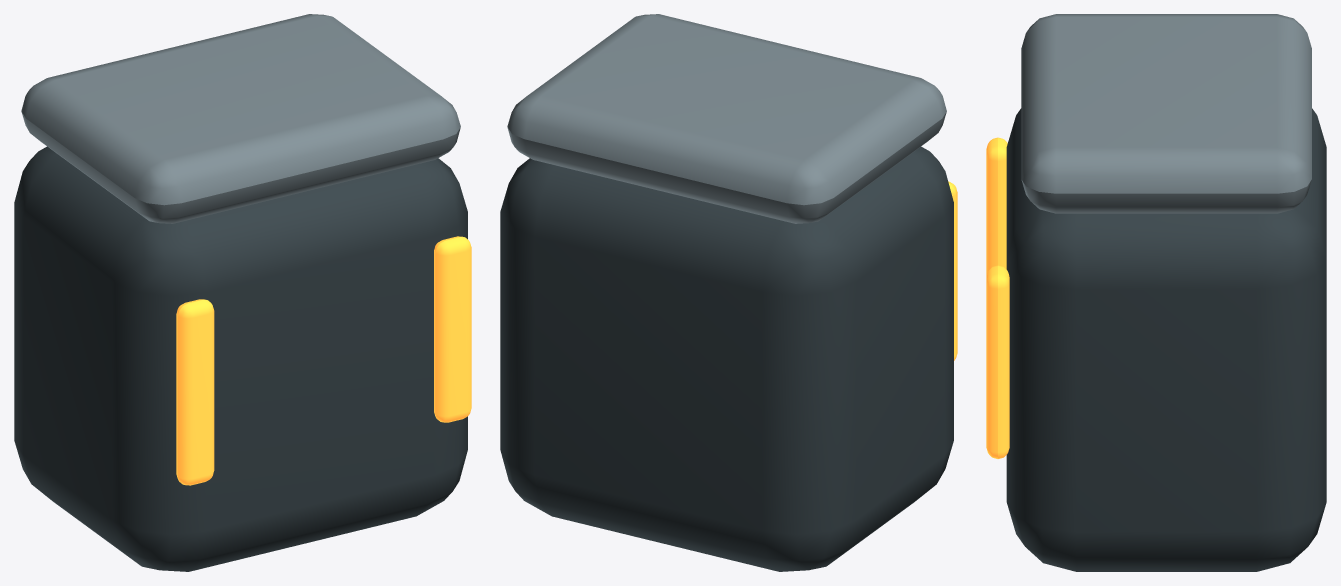
File: salvage-cache.glb
3 views of the same model, side by side, from view 1: azimuth 30°, elevation 25°; view 2: azimuth 150°, elevation 25°; view 3: azimuth 270°, elevation 25° (orthographic).
Parts seen in each view (by area): view 1: Salvage case, Salvage top, Status lock, Status lock.001; view 2: Salvage case, Salvage top, Status lock; view 3: Salvage case, Salvage top, Status lock.001, Status lock.
Boxes of the visible parts, bbox=[...] form: Salvage case: bbox=[14, 146, 467, 571]; Salvage top: bbox=[21, 14, 460, 223]; Status lock: bbox=[176, 299, 214, 485]; Status lock.001: bbox=[434, 236, 471, 422]; Salvage case: bbox=[500, 146, 953, 571]; Salvage top: bbox=[507, 14, 946, 223]; Status lock: bbox=[948, 181, 957, 360]; Salvage case: bbox=[1006, 108, 1326, 571]; Salvage top: bbox=[1021, 14, 1311, 213]; Status lock.001: bbox=[986, 265, 1009, 458]; Status lock: bbox=[986, 137, 1007, 276].
Size of the model in its own units: 0.7 by 0.81 by 0.585.
